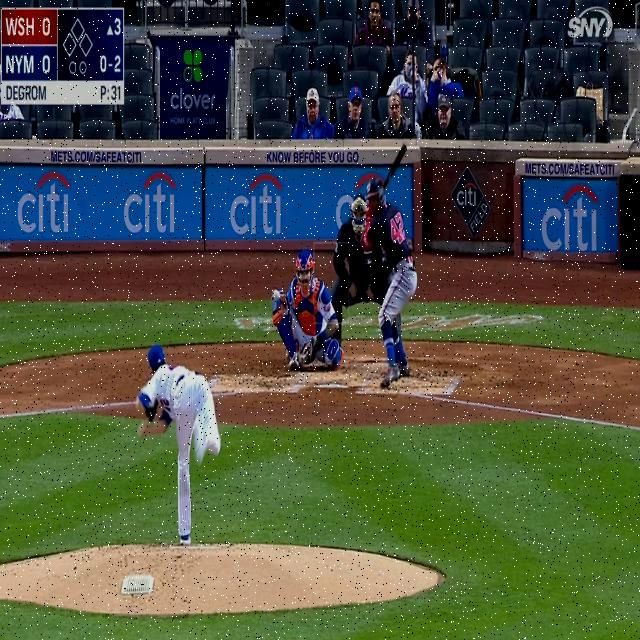baseball: (272, 289, 280, 300)
